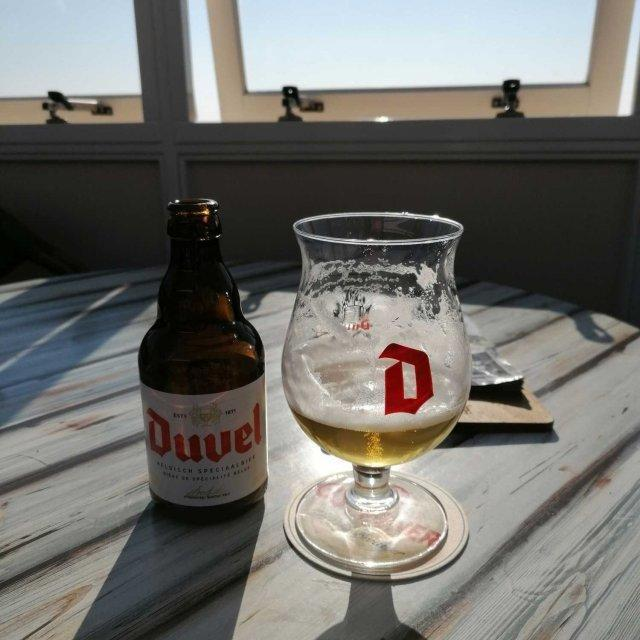Glass: (279, 212, 472, 568), (137, 200, 269, 520)
